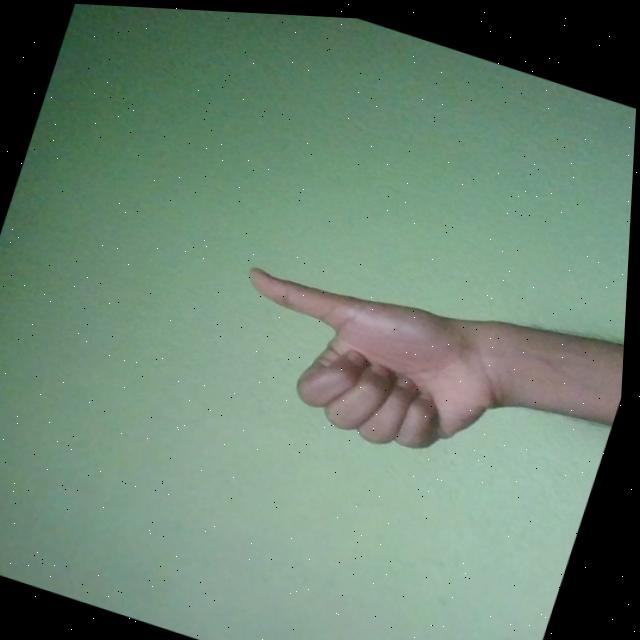Good Job: (212, 250, 531, 473)
